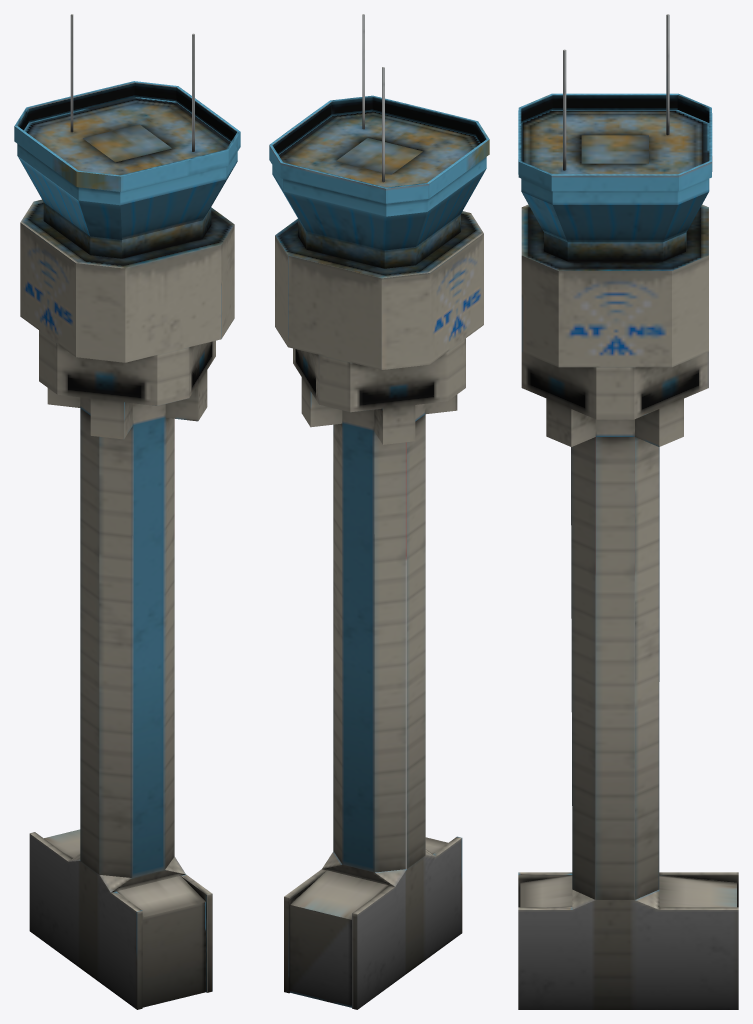
Rendered from air port tower.fbx.
The picture shows the model from 3 angles, left to right: view 1: azimuth 30°, elevation 25°; view 2: azimuth 150°, elevation 25°; view 3: azimuth 270°, elevation 25°; orthographic projection. The views are drawn at different scales.
Visible parts, largest first — view 1: Box001_Material #25_0; view 2: Box001_Material #25_0; view 3: Box001_Material #25_0.
Part boxes in pixels (x1,y1,x2,y2): Box001_Material #25_0: (14,14,240,1009); Box001_Material #25_0: (269,14,489,1009); Box001_Material #25_0: (518,14,738,1009).
Bounding box in the file's own units: 1370 × 7490 × 1556.
